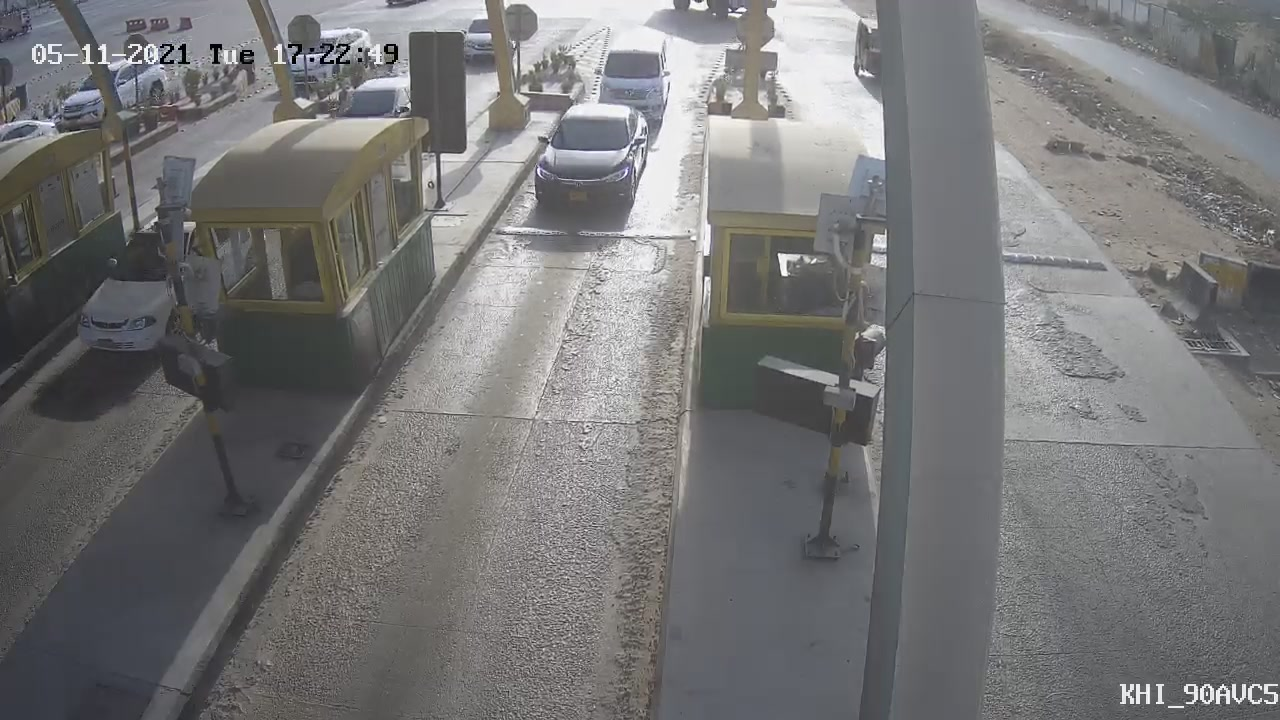F1: (517, 86, 666, 222)
